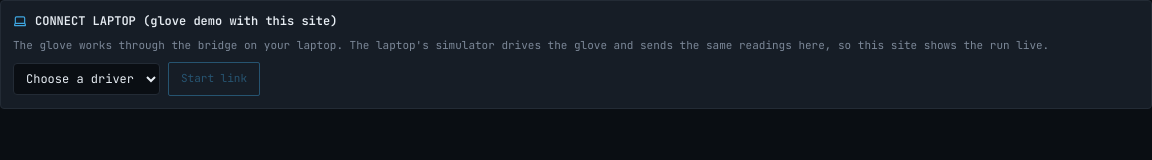
Scenario: LaptopLinkPanel › shows the server's message when the link cannot start
The width and height of the screenshot is (1152, 160).
Select "Ana" in the dropdown with test id "laptop-link-driver" at {"x": 86, "y": 78}, box x1=13 y1=62 x2=160 y2=94
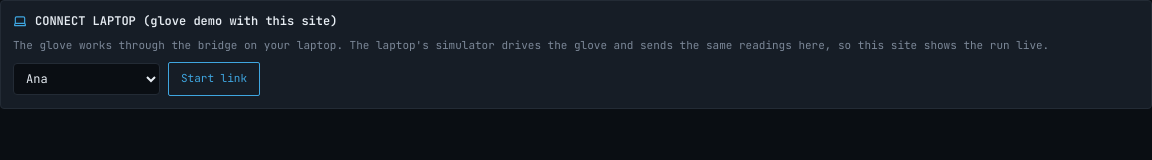
Click the button with test id "laptop-link-start" at {"x": 214, "y": 78}, box x1=168 y1=62 x2=260 y2=96
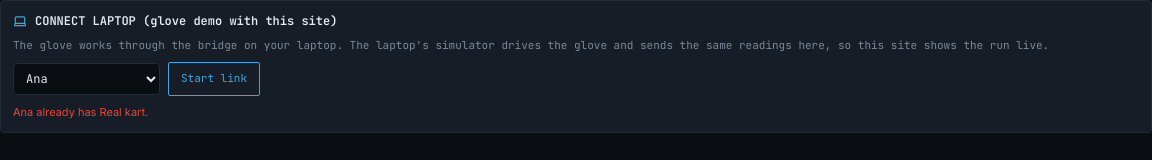
Now the message with test id "laptop-link-error" shows "already has Real kart", box x1=13 y1=104 x2=148 y2=118
